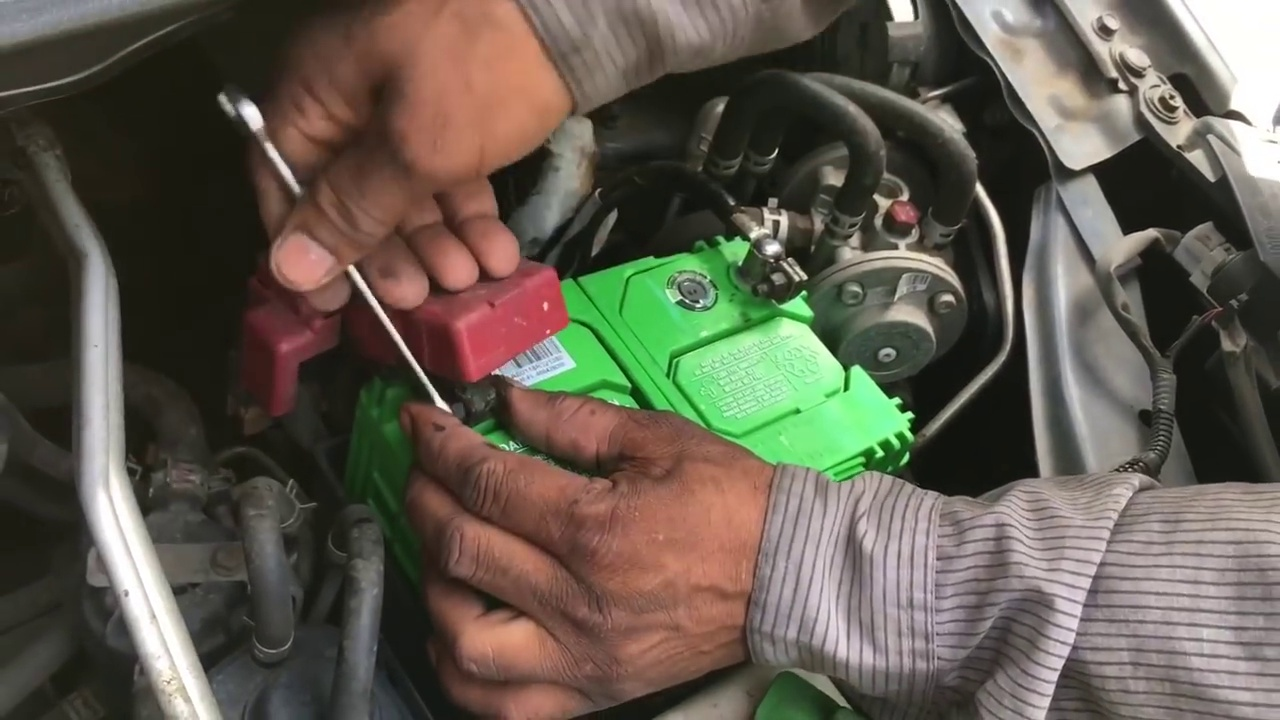battery: (357, 202, 912, 566)
neg_connected: (712, 196, 814, 322)
pos_touched: (299, 169, 596, 527)
